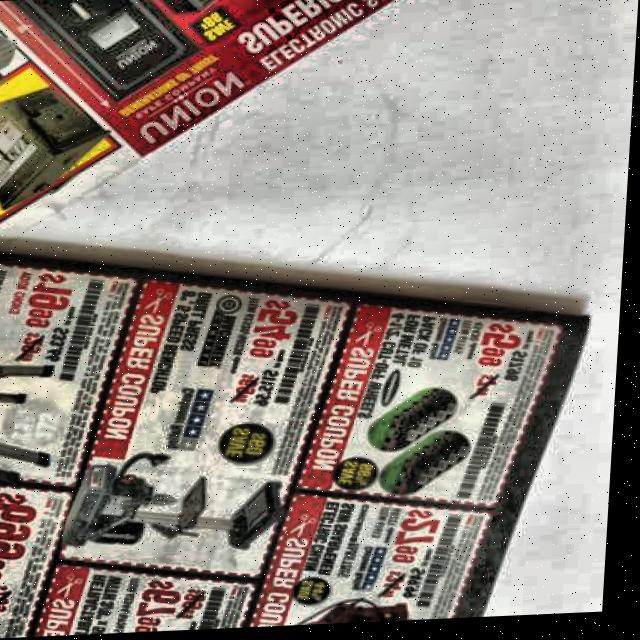paper: (0, 222, 599, 640), (0, 0, 430, 255)
